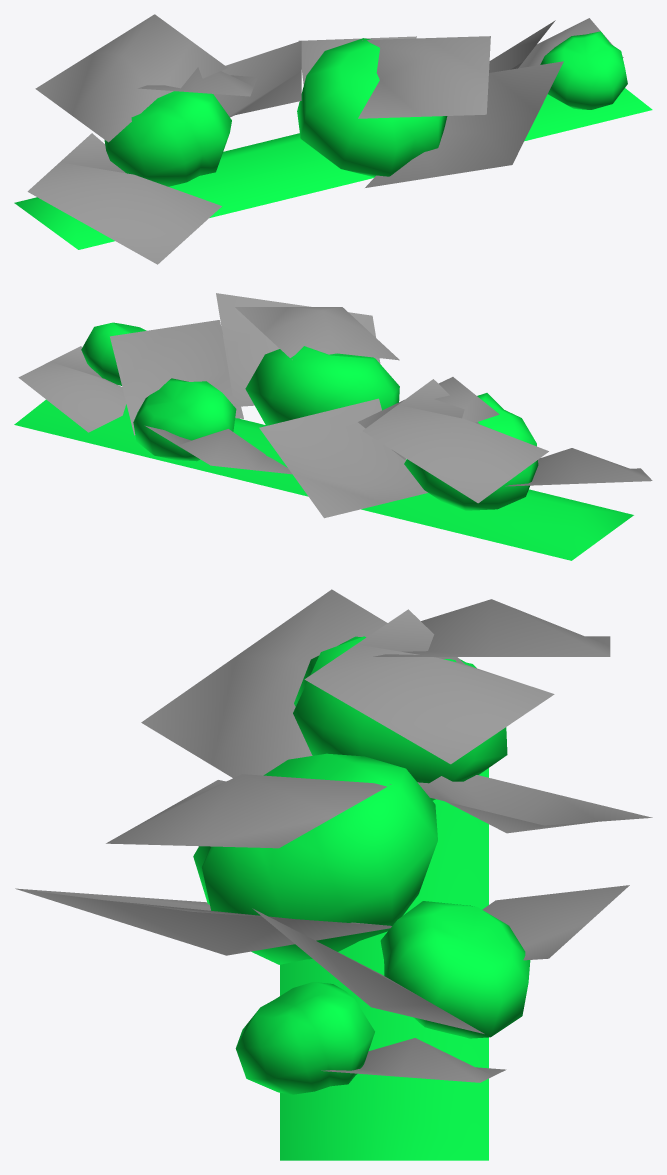
Rendered from SM_GardenBed_6.FBX.
The picture shows the model from 3 angles, top to bottom: view 1: azimuth 30°, elevation 25°; view 2: azimuth 150°, elevation 25°; view 3: azimuth 270°, elevation 25°; orthographic projection. The views are drawn at different scales.
Parts seen in each view (by area): view 1: GardenBed_6; view 2: GardenBed_6; view 3: GardenBed_6.
Boxes of the visible parts, left/top/right/bottom form: GardenBed_6: left=14, top=14, right=652, bottom=264; GardenBed_6: left=14, top=293, right=652, bottom=560; GardenBed_6: left=15, top=589, right=652, bottom=1160.
Size of the model in its own units: 162 by 90.84 by 30.64.
